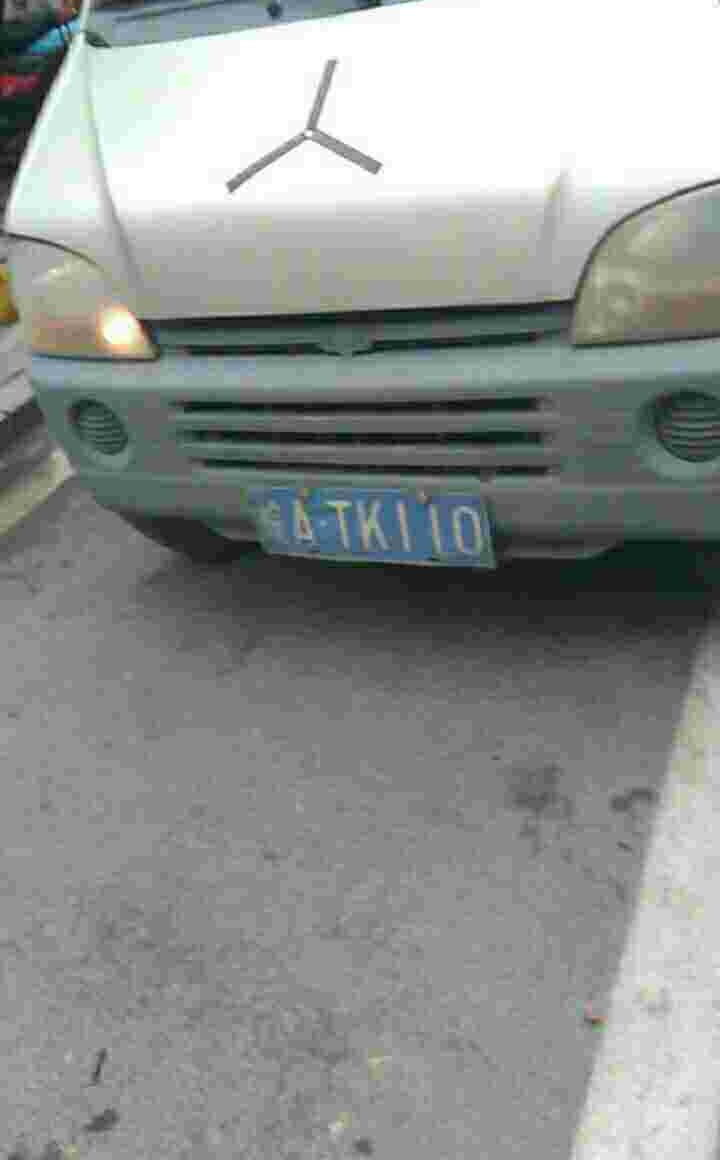license_plate: (251, 481, 487, 566)
